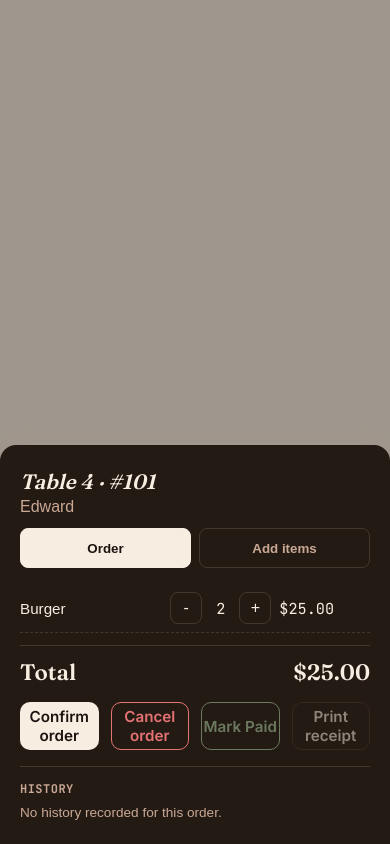
Test case: OrderDetailModal › sets activePane via the pane toggle and keeps both panes mounted
The width and height of the screenshot is (390, 844).
Click the tab "Add items".
click(284, 548)  # box [199,528,370,568]
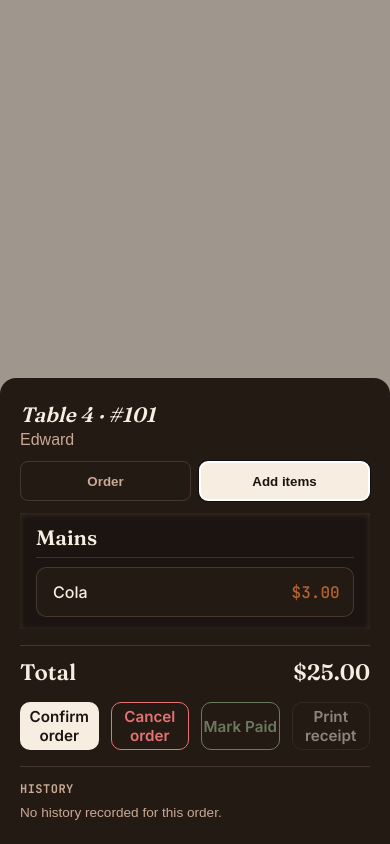
Now the button "Cola $3.00" is shown, box [36,567,354,617]
